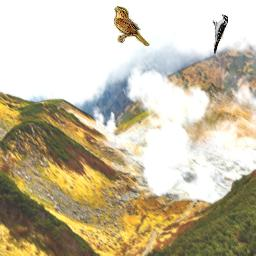Sparrow: (114, 6, 150, 46)
Woodpecker: (212, 14, 228, 54)
